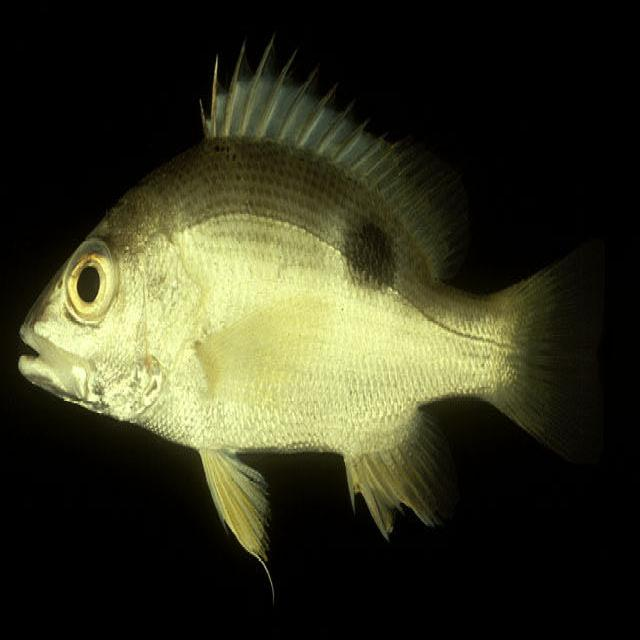ikan: (16, 29, 609, 601)
